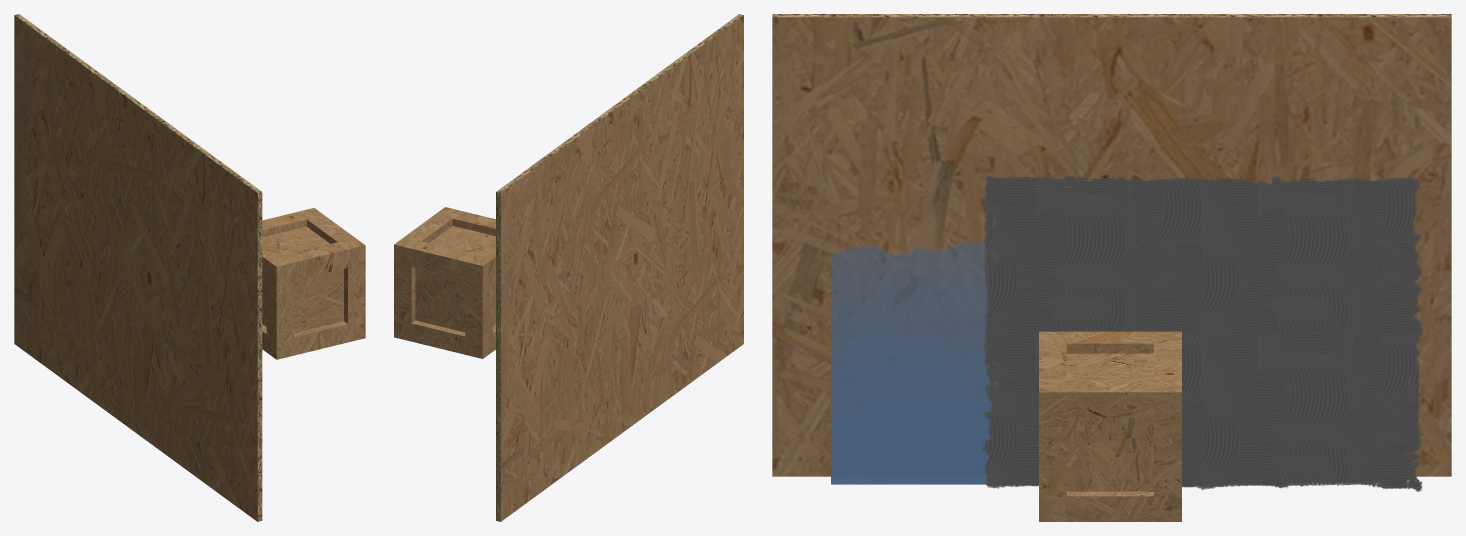
Rendered from gltf_problems_1.glb.
3 renders of one model, left to right at view 1: azimuth 30°, elevation 25°; view 2: azimuth 150°, elevation 25°; view 3: azimuth 270°, elevation 25°, orthographic. The views are drawn at different scales.
Parts seen in each view (by area): view 1: osbplatte3-OSB.3, Cube, osbplatte3-OSB c chnitt; view 2: osbplatte3-OSB.3, Cube, osbplatte3-OSB c chnitt; view 3: osbplatte3-OSB.3, Plane.1, Plane, Cube, osbplatte3-OSB c chnitt.
Part boxes in pixels (left/top/right/bottom): osbplatte3-OSB.3: left=14, top=15, right=257, bottom=521; Cube: left=262, top=208, right=365, bottom=359; osbplatte3-OSB c chnitt: left=15, top=14, right=262, bottom=521; osbplatte3-OSB.3: left=501, top=15, right=743, bottom=521; Cube: left=394, top=207, right=495, bottom=358; osbplatte3-OSB c chnitt: left=496, top=14, right=743, bottom=521; osbplatte3-OSB.3: left=772, top=17, right=1451, bottom=476; Plane.1: left=982, top=175, right=1423, bottom=491; Plane: left=831, top=241, right=1002, bottom=484; Cube: left=1039, top=331, right=1181, bottom=521; osbplatte3-OSB c chnitt: left=772, top=14, right=1451, bottom=17.
Bounding box in the file's own units: 36.48 × 56.4 × 75.57.
5 materials, 5 textured.
